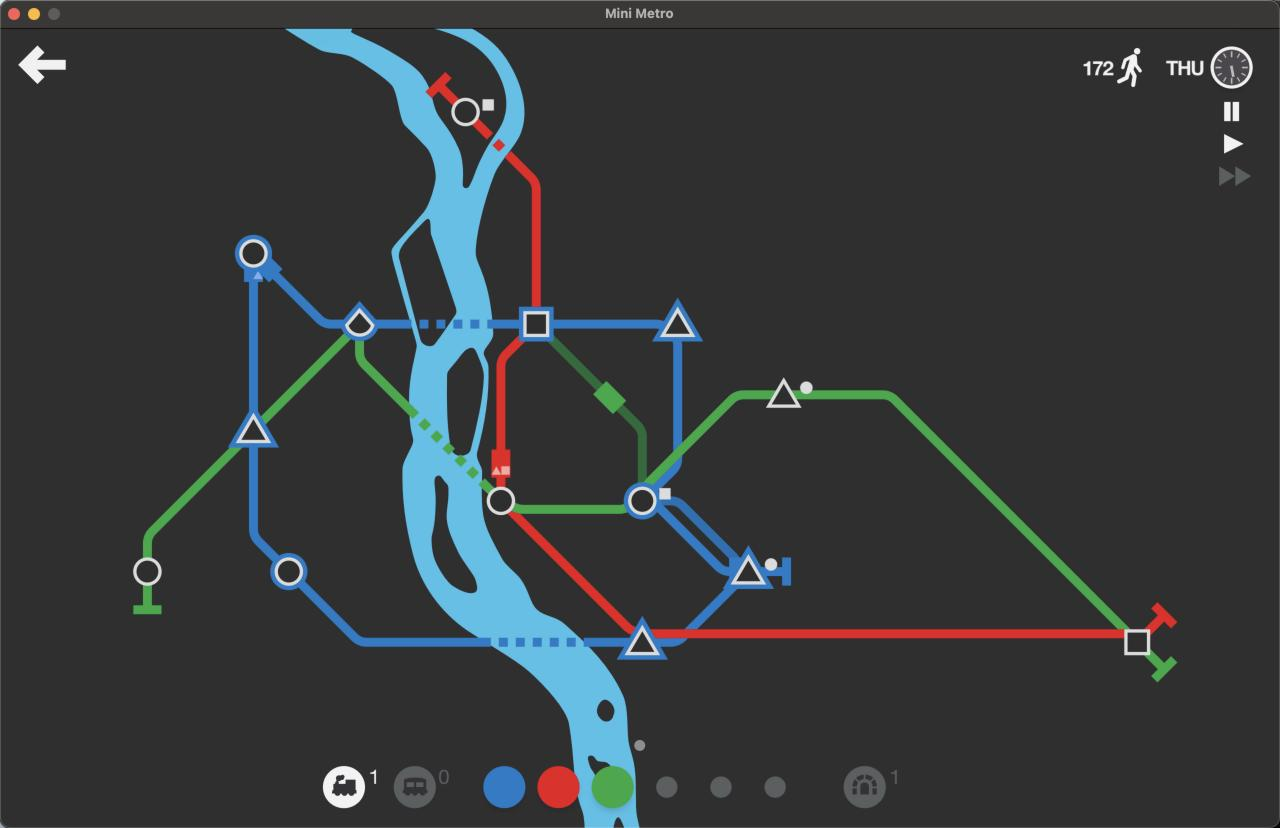CIRCLE: (624, 482, 660, 519), (271, 554, 307, 590), (486, 485, 517, 516), (451, 96, 481, 127), (133, 556, 162, 587)
SQUARE: (519, 306, 555, 341), (1123, 629, 1150, 656)
TRIANGLE: (617, 616, 667, 662), (653, 298, 704, 343), (230, 411, 280, 451), (728, 550, 769, 589), (766, 376, 802, 409)
WEDGE: (235, 235, 272, 277), (342, 303, 380, 342)
